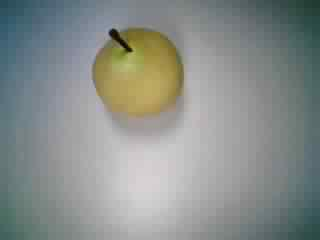pear: (83, 22, 188, 125)
